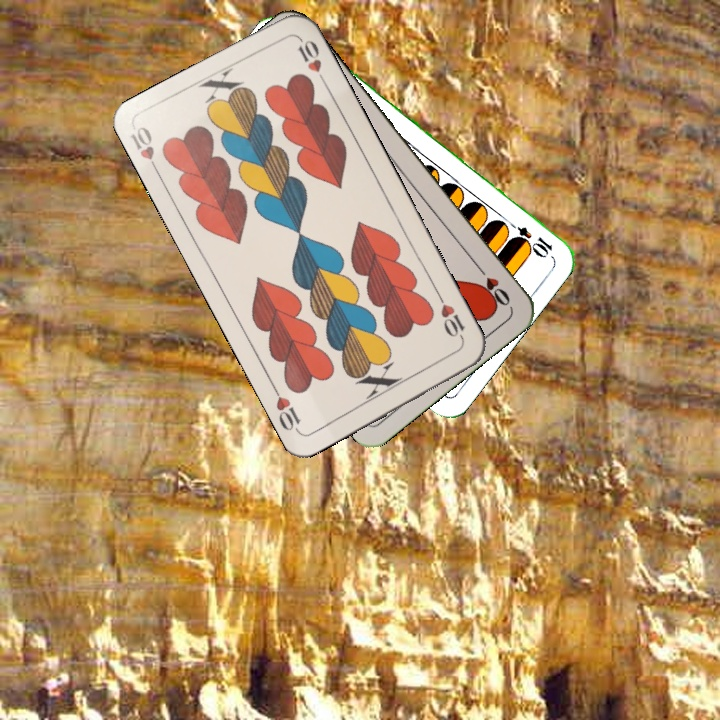E10: (501, 216, 555, 259)
H10: (126, 122, 163, 179), (433, 290, 468, 345)
HO: (471, 259, 513, 309)
